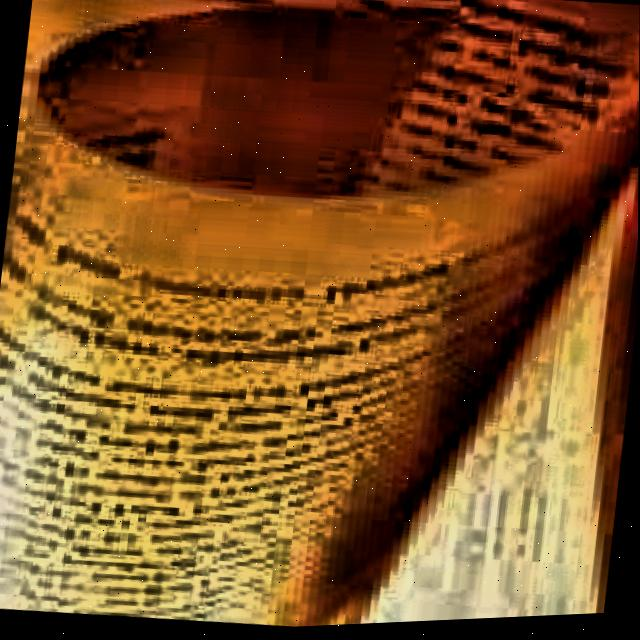paper: (0, 0, 640, 640), (0, 0, 640, 640), (0, 0, 640, 427), (320, 87, 639, 629)
